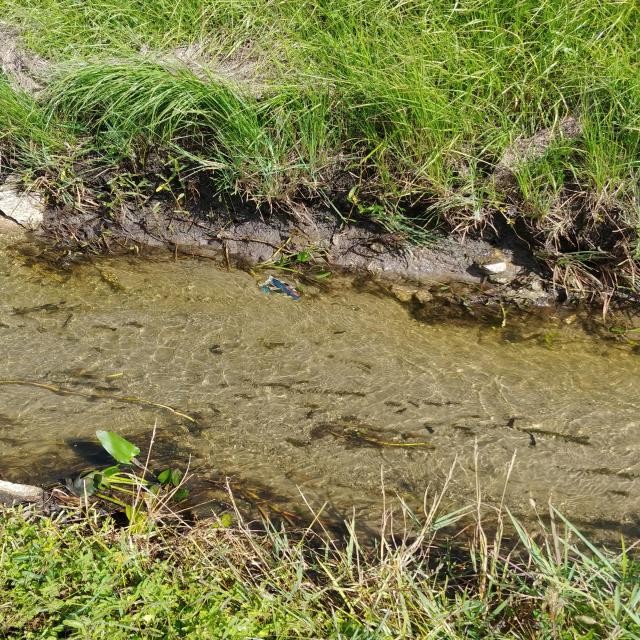litter: (258, 275, 302, 300)
